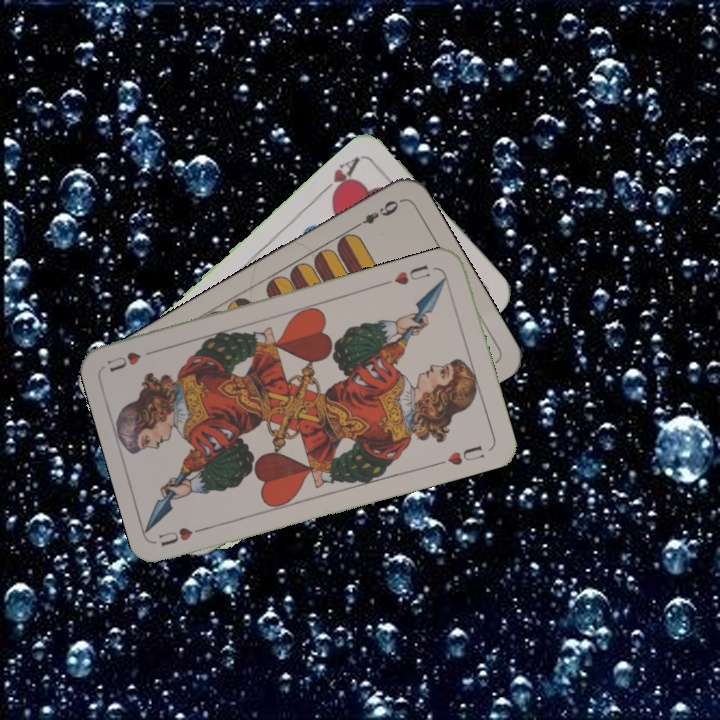E9: (350, 196, 404, 231)
HA: (317, 152, 363, 203)
HU: (155, 522, 212, 549), (390, 260, 433, 288)
